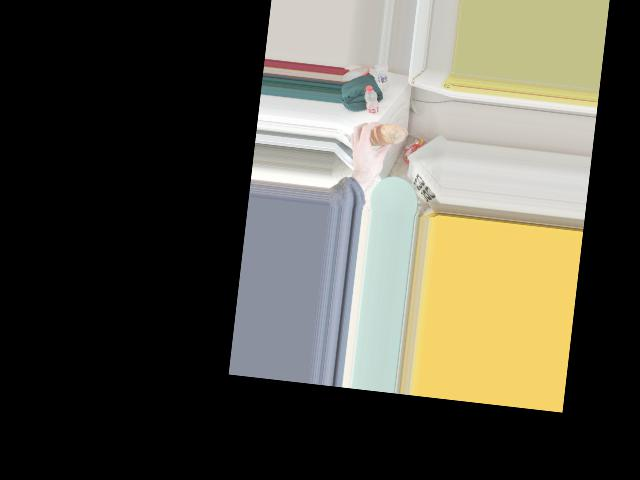sweet_potato: (364, 119, 399, 154)
